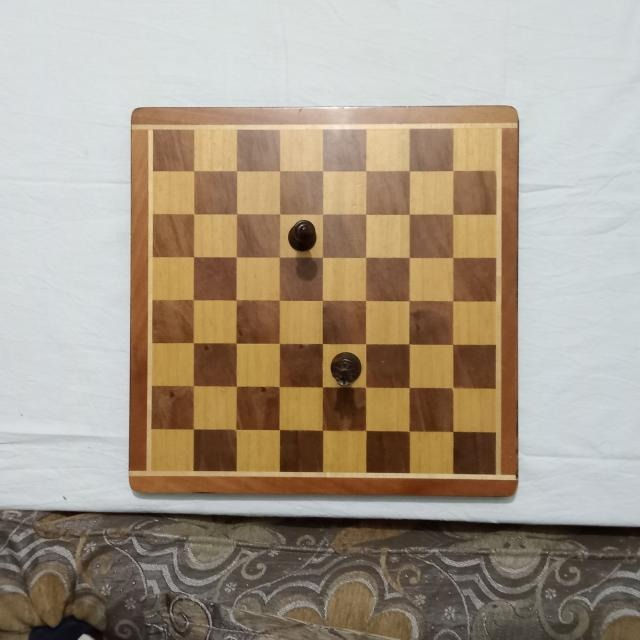black-king: (286, 218, 318, 252)
black-queen: (329, 350, 363, 389)
